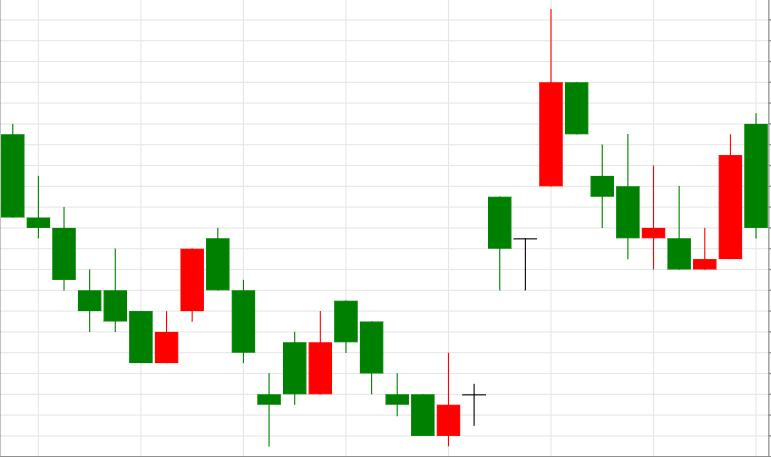inverse_hammer_rise: (565, 82, 690, 268), (335, 300, 459, 447)
